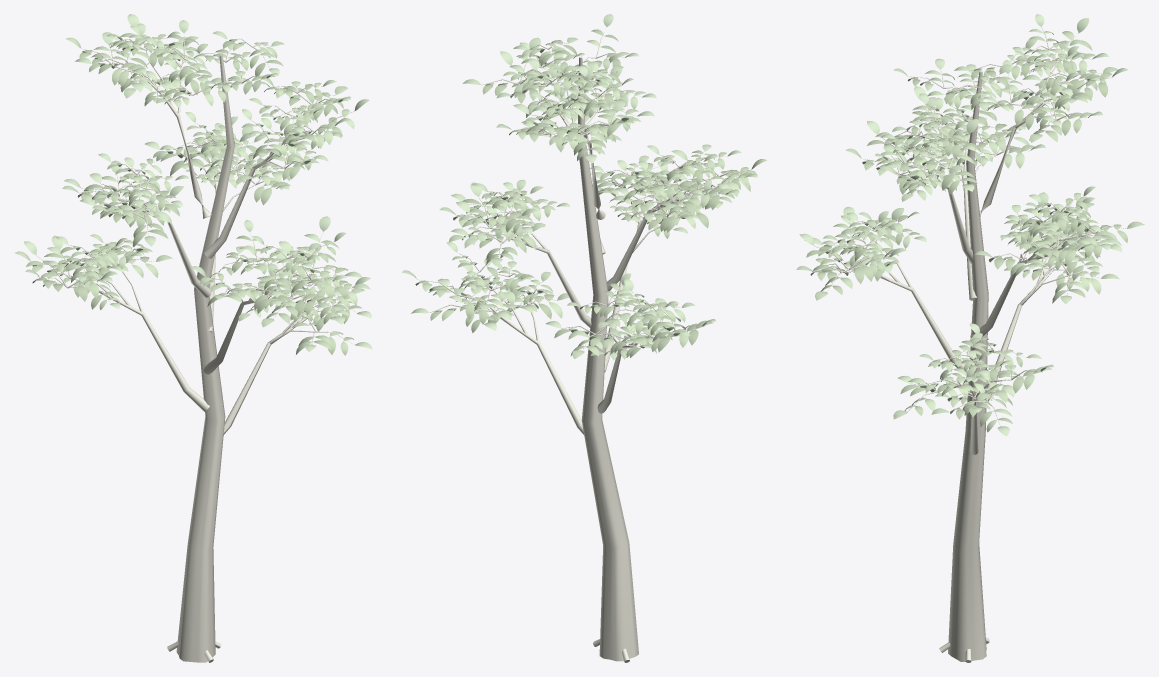
File: SM_WLA_Birch_A.fbx
3 renders of one model, left to right at view 1: azimuth 30°, elevation 25°; view 2: azimuth 150°, elevation 25°; view 3: azimuth 270°, elevation 25°, orthographic.
Parts seen in each view (by area): view 1: SM_WLA_Birch_A; view 2: SM_WLA_Birch_A; view 3: SM_WLA_Birch_A.
Part boxes in pixels (<box>): SM_WLA_Birch_A: <box>14,14,372,662</box>; SM_WLA_Birch_A: <box>402,14,766,662</box>; SM_WLA_Birch_A: <box>796,14,1144,662</box>.
Size of what is drawn, in the model's own units: 4.15 by 4.48 by 8.08.
